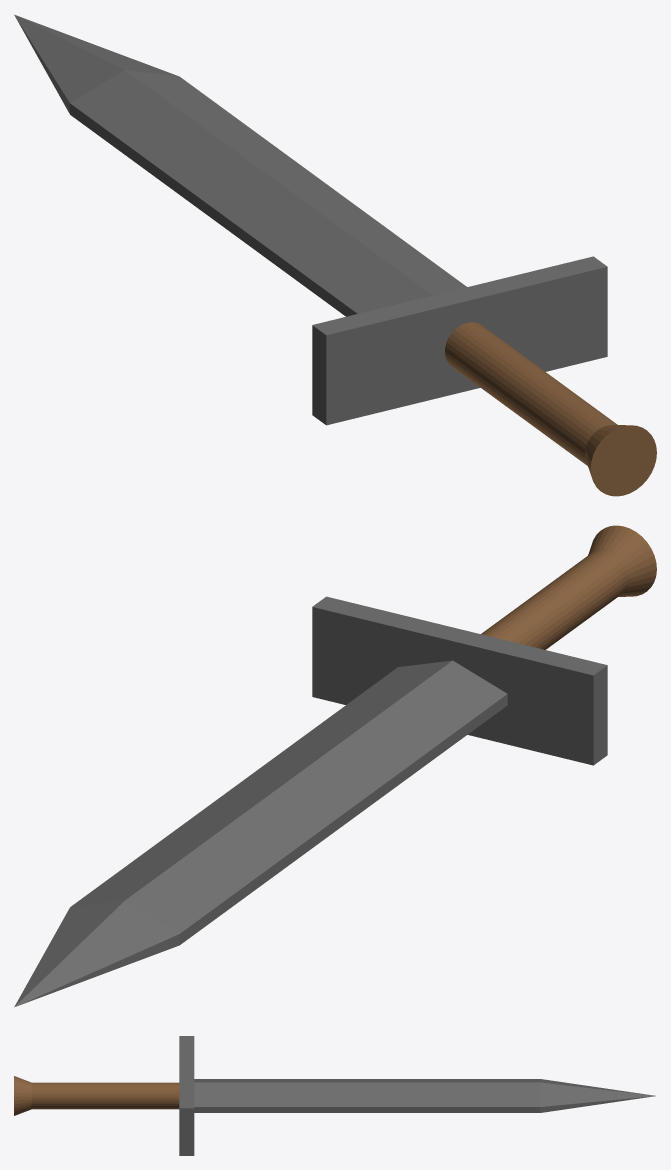
File: sword(1).fbx
3 renders of one model, top to bottom at view 1: azimuth 30°, elevation 25°; view 2: azimuth 150°, elevation 25°; view 3: azimuth 270°, elevation 25°, orthographic. The views are drawn at different scales.
Visible parts, largest first — view 1: Cube.001, Cube, Cylinder; view 2: Cube.001, Cube, Cylinder; view 3: Cube.001, Cylinder, Cube.
Boxes of the visible parts, bbox=[...] form: Cube.001: bbox=[14, 14, 466, 316]; Cube: bbox=[312, 256, 607, 425]; Cylinder: bbox=[445, 322, 656, 496]; Cube.001: bbox=[14, 660, 507, 1007]; Cube: bbox=[312, 596, 607, 765]; Cylinder: bbox=[481, 525, 656, 649]; Cube.001: bbox=[194, 1079, 655, 1112]; Cylinder: bbox=[14, 1076, 179, 1115]; Cube: bbox=[179, 1036, 194, 1155].
Bounding box in the file's own units: 64.35 × 19.68 × 242.
